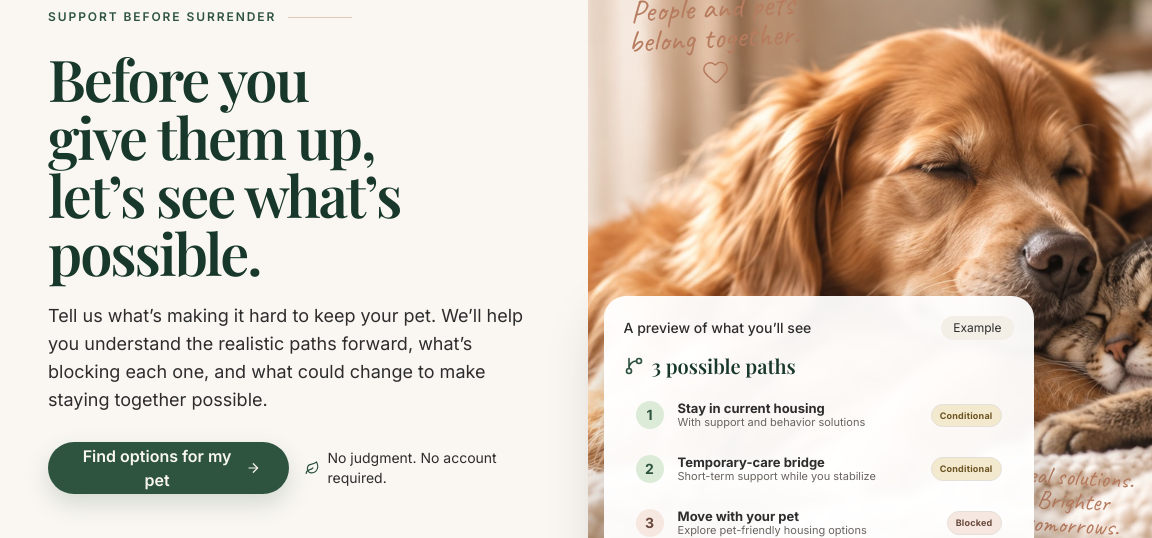
Scenario: Keep Them Home demo flows › continues locally when backend case creation fails
The width and height of the screenshot is (1152, 538).
Click the button "Find options for my pet" at (168, 468), box [48,442,289,494]
(page scrolled)
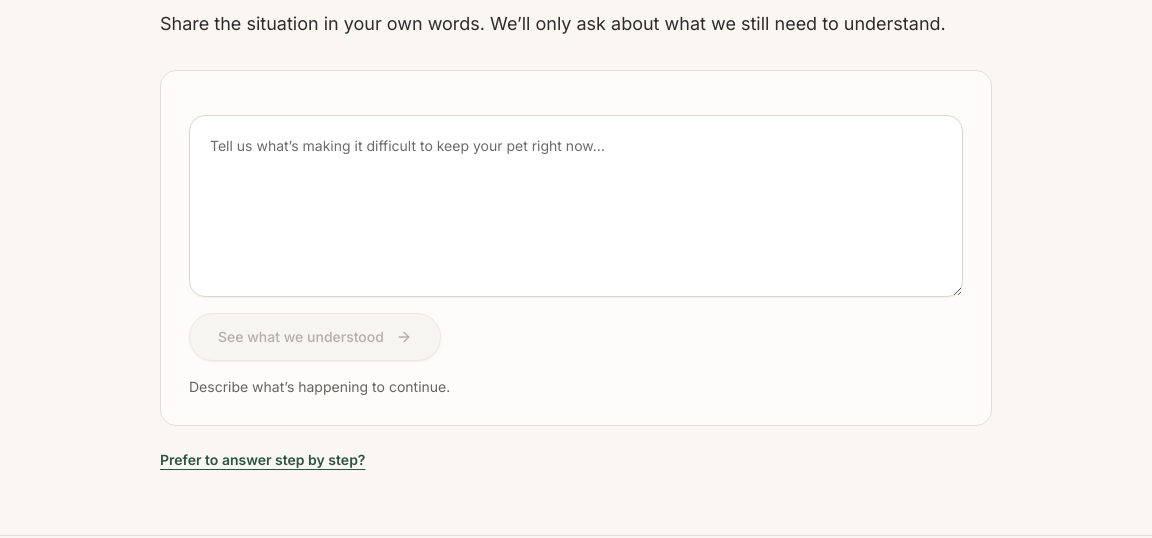
Click the button "Prefer to answer step by step?" at (263, 460), box [160,450,366,470]
(page scrolled)
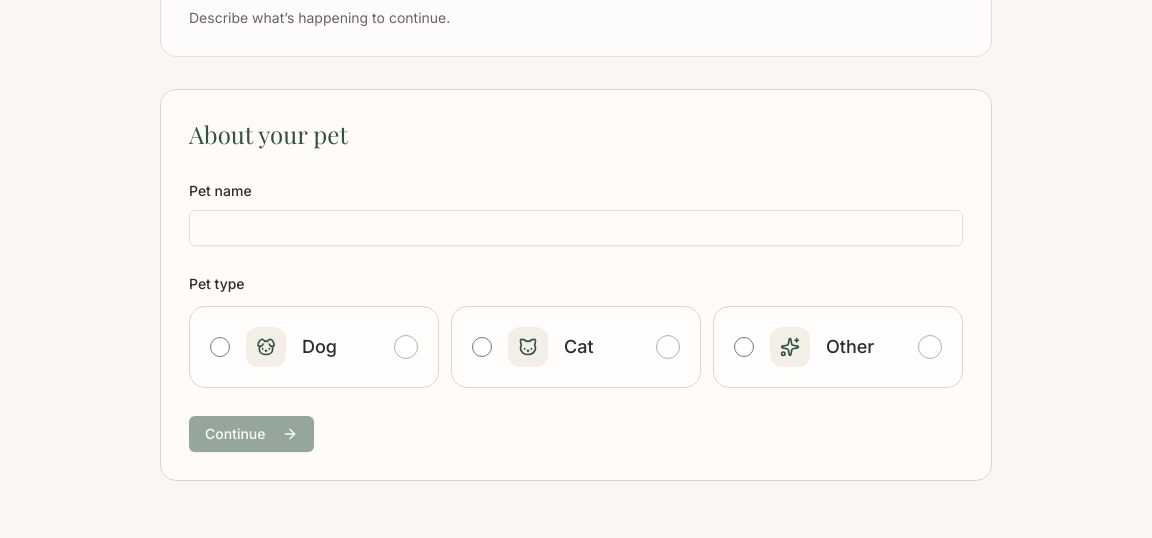
Type "Luna" into the field labelled "Pet name" at (576, 228), box [189,210,963,246]
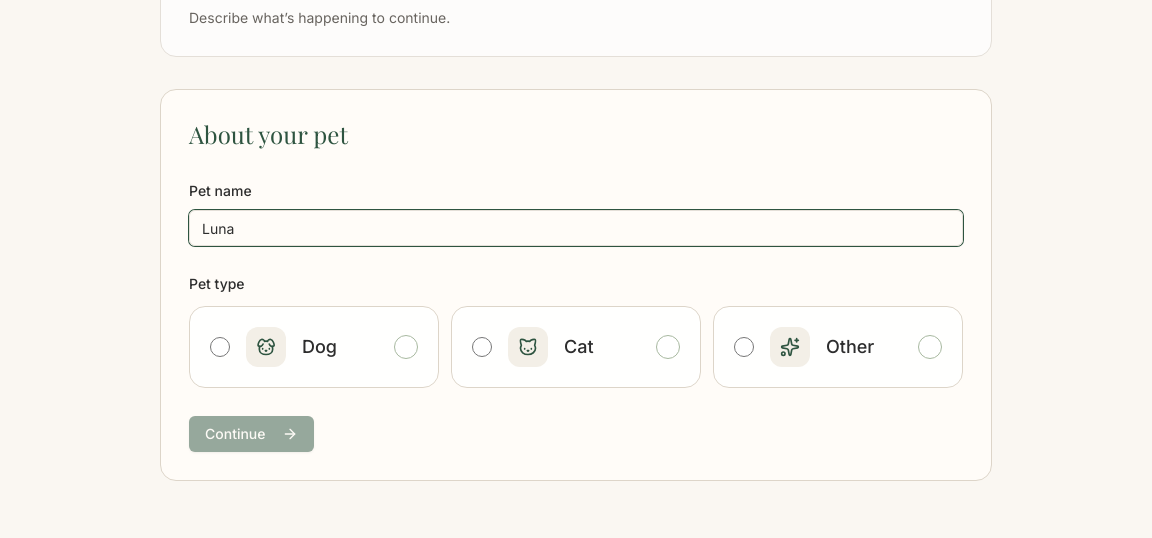
Click the radio button labelled "Dog" at (220, 347), box [210,337,230,357]
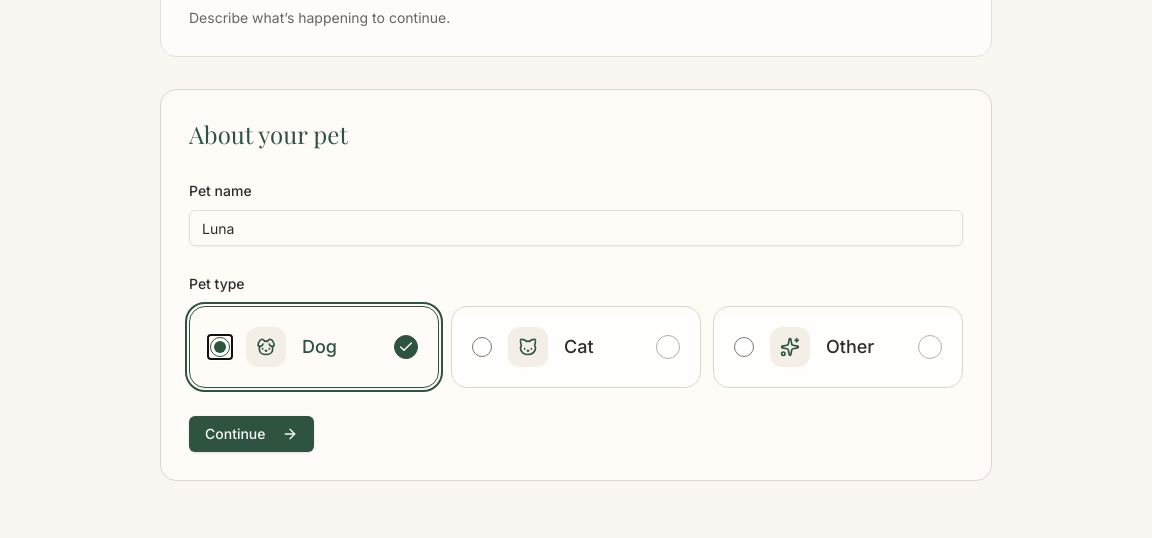
Click the button "Continue" at (251, 434), box [189,416,314,452]
(page scrolled)
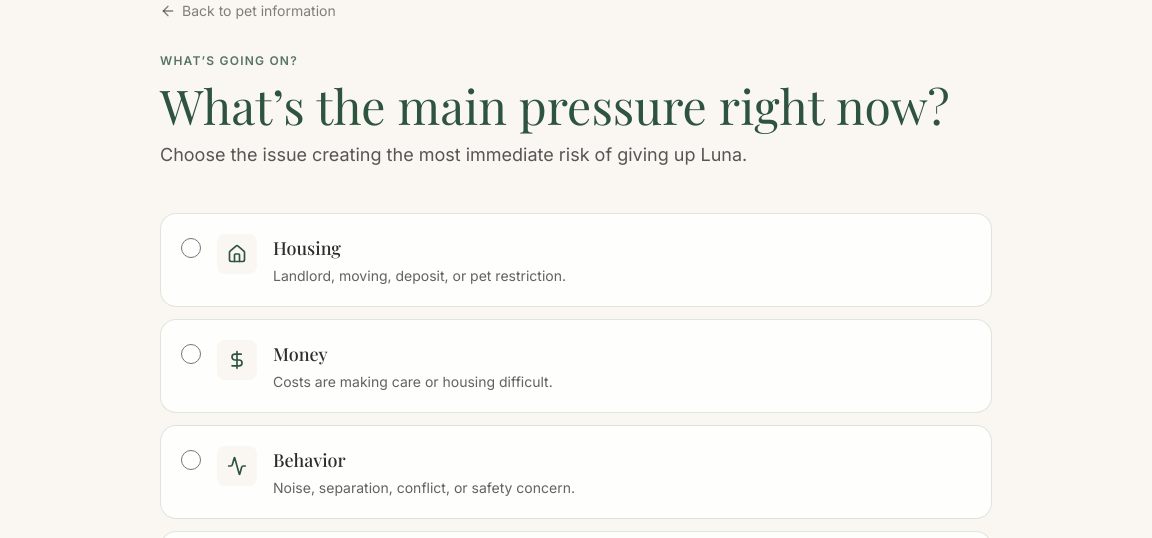
Now the heading "What’s the main pressure right now?" is shown, box [160,81,992,129]
